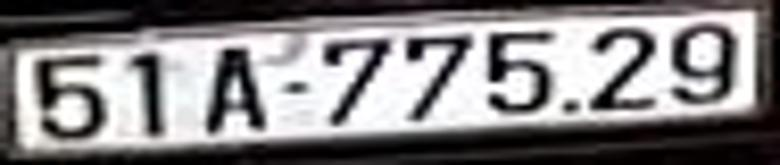-: (282, 82, 308, 94)
.: (561, 98, 582, 113)
1: (131, 54, 163, 135)
2: (592, 27, 655, 113)
5: (36, 57, 105, 138), (489, 33, 550, 114)
7: (322, 40, 392, 126), (406, 37, 474, 119)
9: (669, 20, 734, 103)
A: (203, 47, 265, 131)
